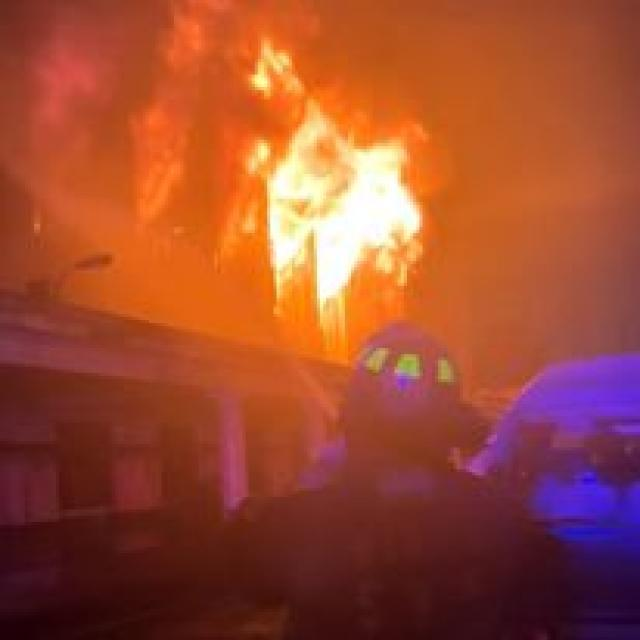Fire: (254, 56, 426, 289)
